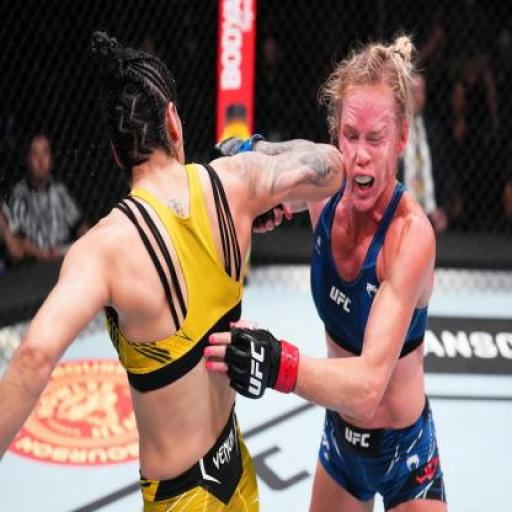Fighting: (0, 25, 446, 512)
